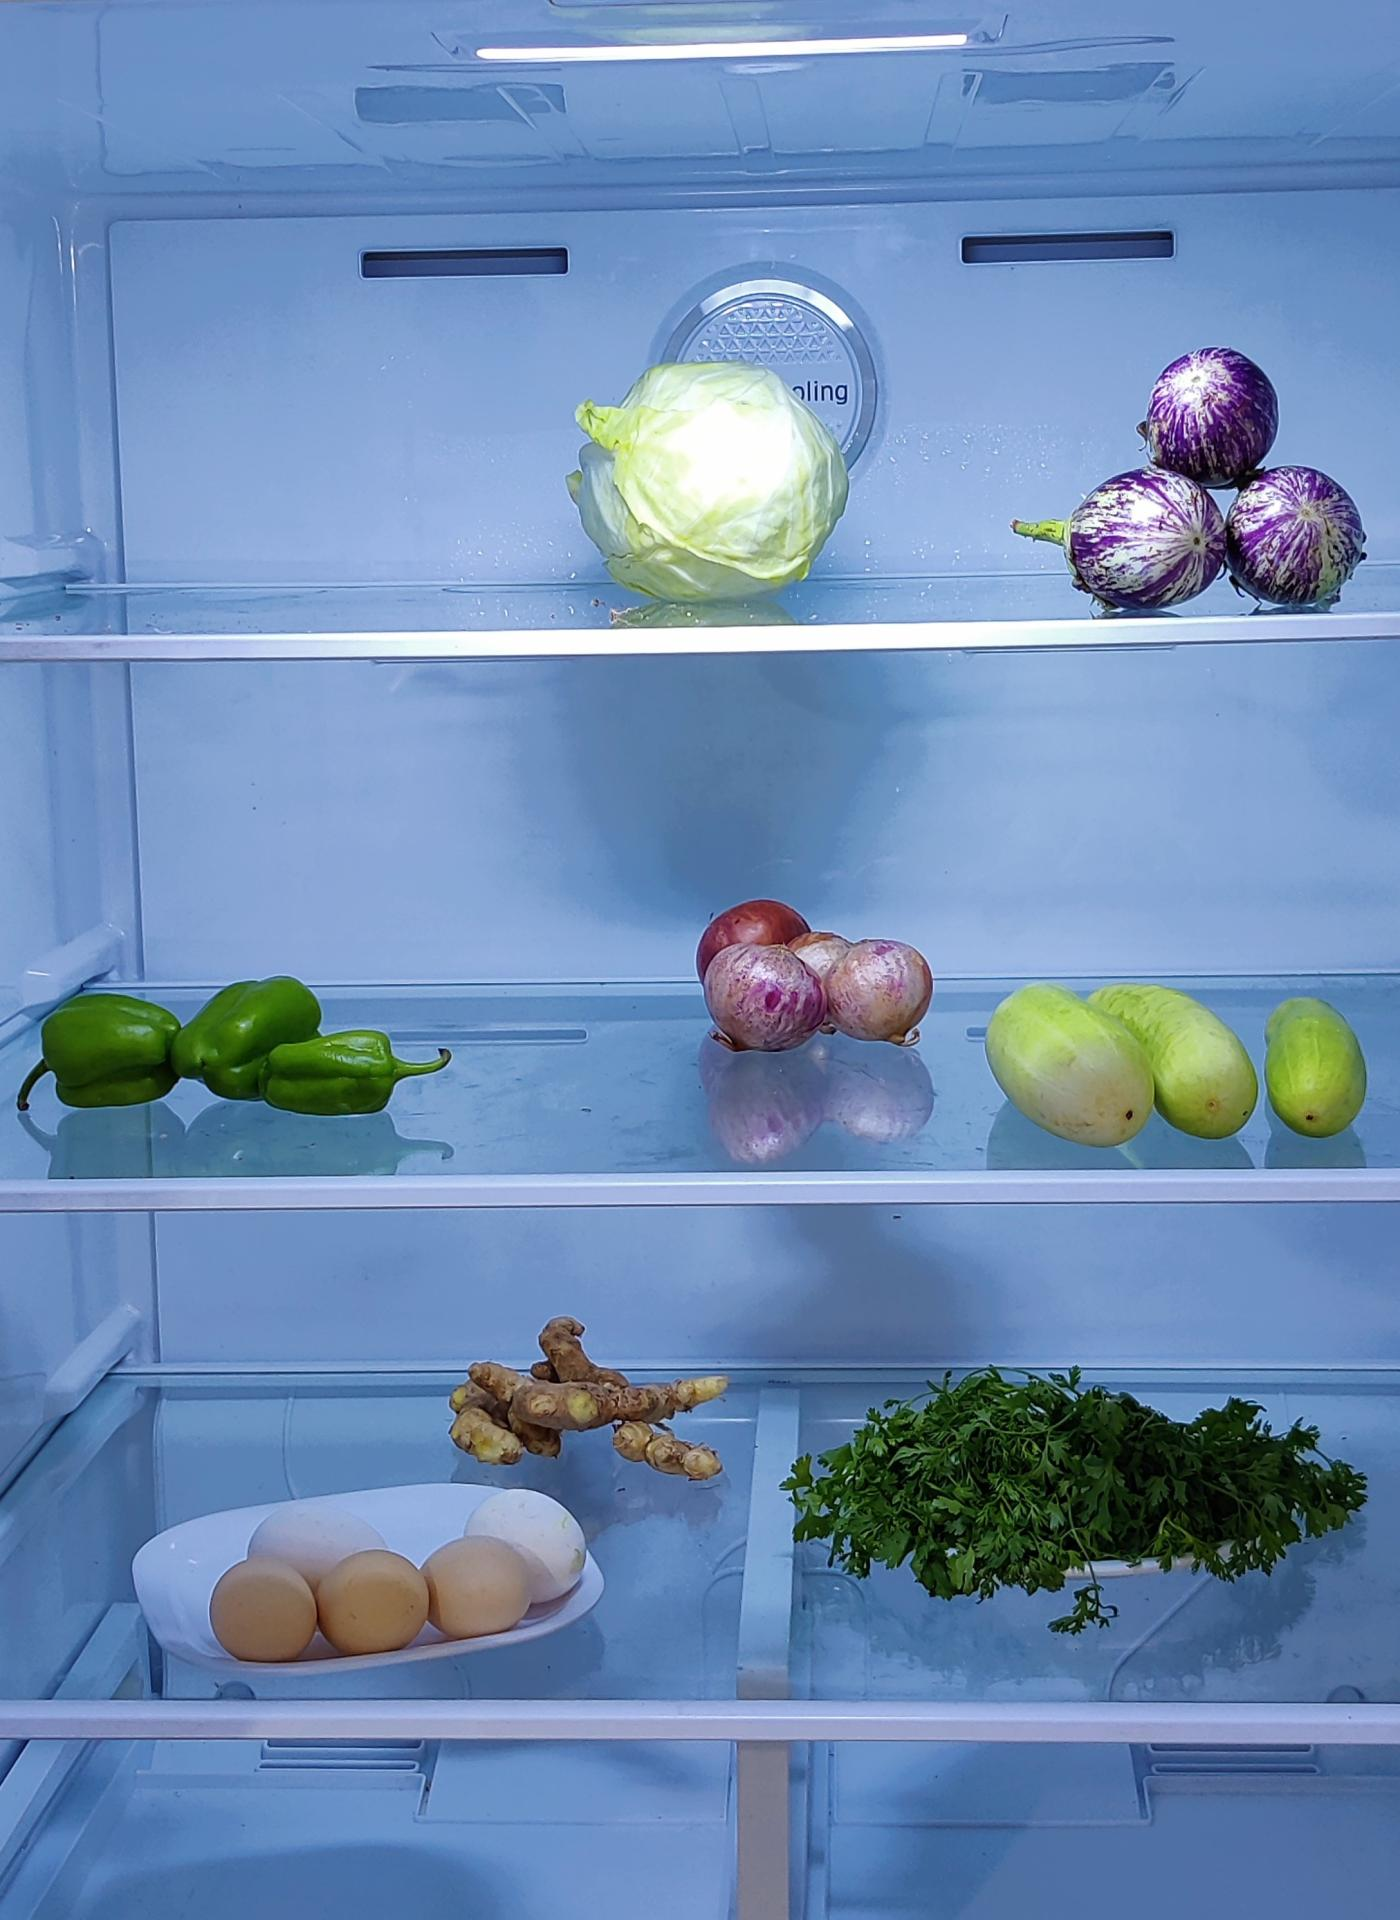brinjal: (1063, 332, 1360, 608), (684, 888, 929, 1055)
cabbage: (578, 361, 856, 598)
capsicum: (18, 973, 438, 1127)
coriander: (784, 1377, 1354, 1607)
cucumber: (994, 996, 1382, 1169)
egg: (206, 1503, 581, 1674)
ginger: (447, 1312, 731, 1468)
